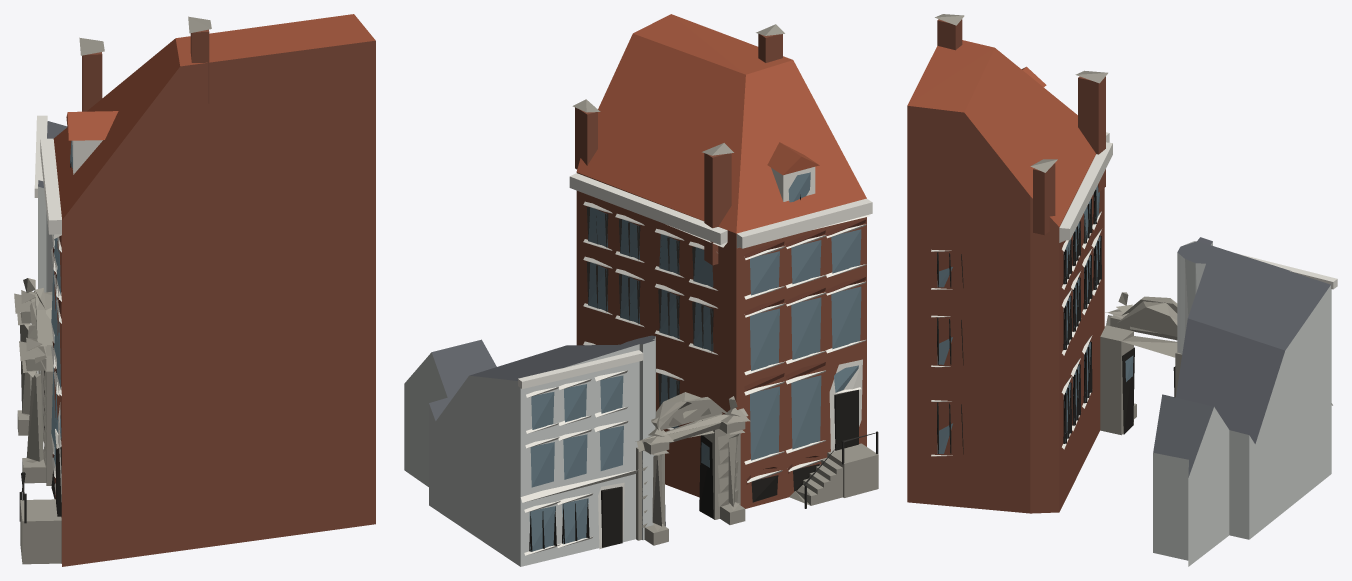
Rendered from oudemanhuispoort.lod1.glb.
3 views of the same model, side by side, from view 1: azimuth 30°, elevation 25°; view 2: azimuth 150°, elevation 25°; view 3: azimuth 270°, elevation 25° (orthographic). The views are drawn at different scales.
Parts seen in each view (by area): view 1: oudemanhuispoort; view 2: oudemanhuispoort; view 3: oudemanhuispoort.
Part boxes in pixels (<box>): oudemanhuispoort: <box>14,14,375,566</box>; oudemanhuispoort: <box>404,14,878,566</box>; oudemanhuispoort: <box>907,14,1337,566</box>.
Bounding box in the file's own units: 17.1 × 18.19 × 16.63.
